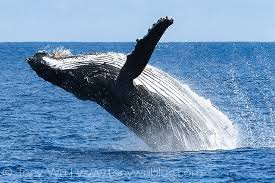humpback: (27, 50, 239, 148)
